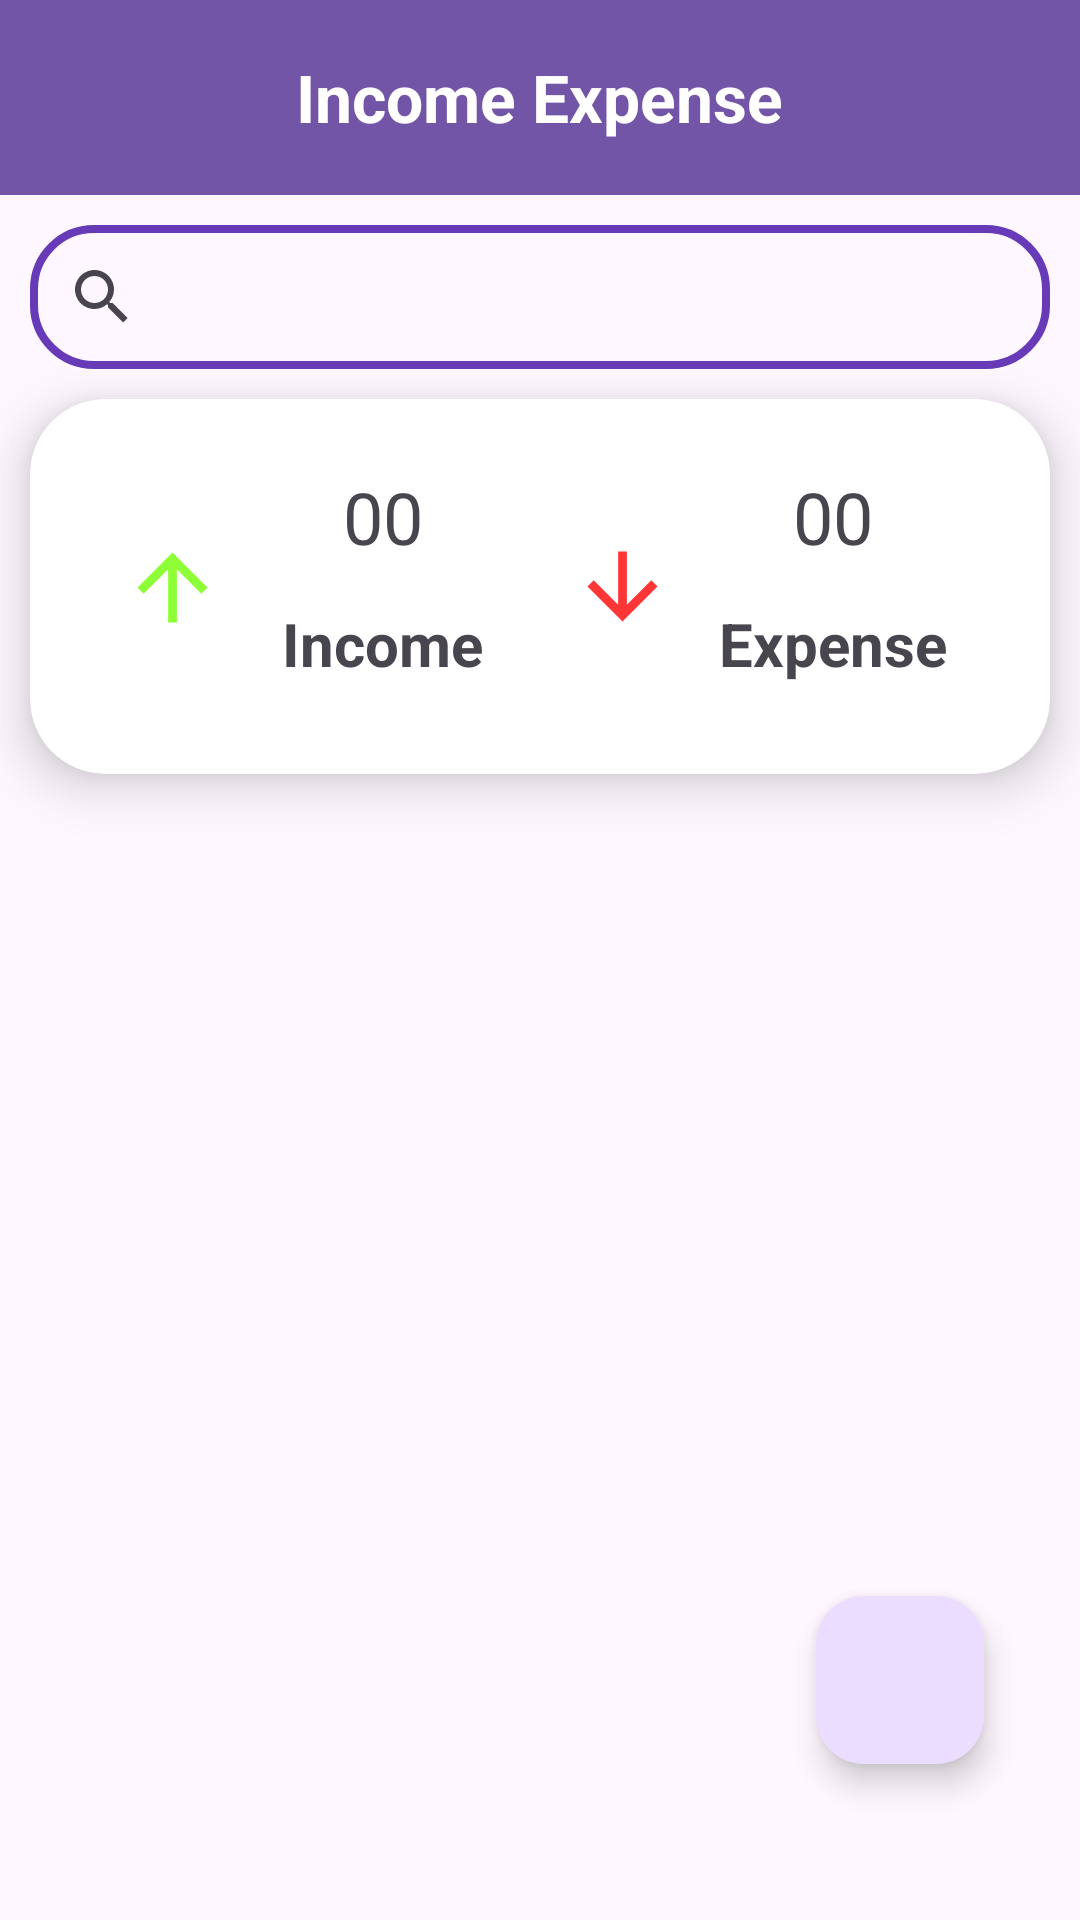

Locate icon controls on the screen. Image size 1080 x 1920, boxes as (x1, y1, x2, y2).
arrow downward: (587, 551, 658, 622)
arrow upward: (137, 552, 208, 623)
